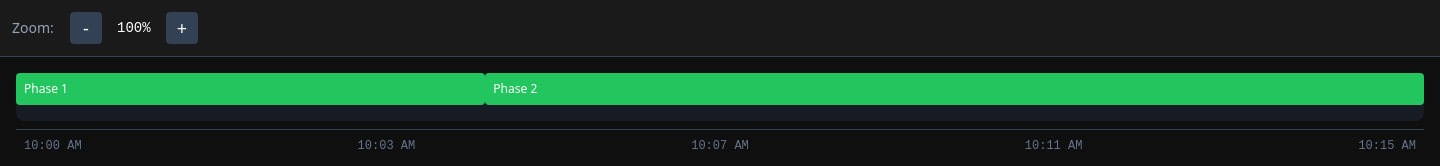
Test case: TimelineView › should show tooltip when hovering over a bar
The image size is (1440, 166).
Step 1. Hover over the element with test id "timeline-bar" showing "Phase 1" → [251, 89], box [16,73,485,105]
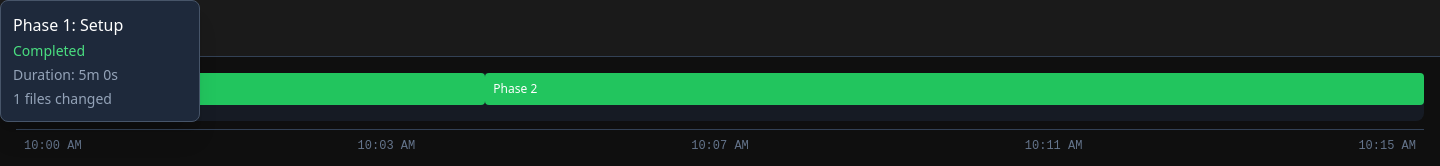
Now the element with test id "timeline-tooltip" is shown, box [0,0,200,122]
